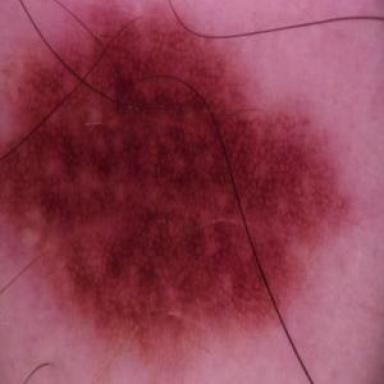Melanoma: (0, 6, 352, 359)
